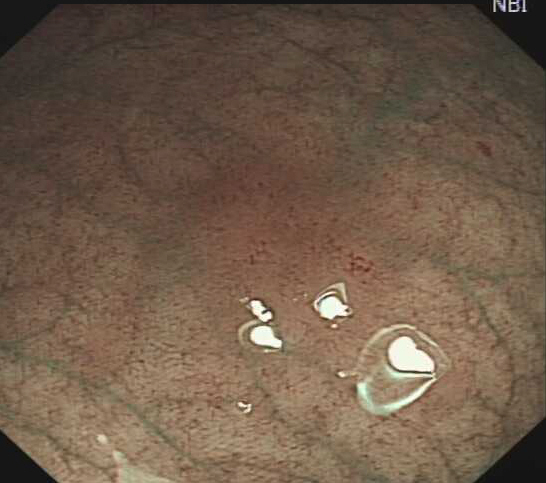adenoma: (177, 170, 370, 361)
